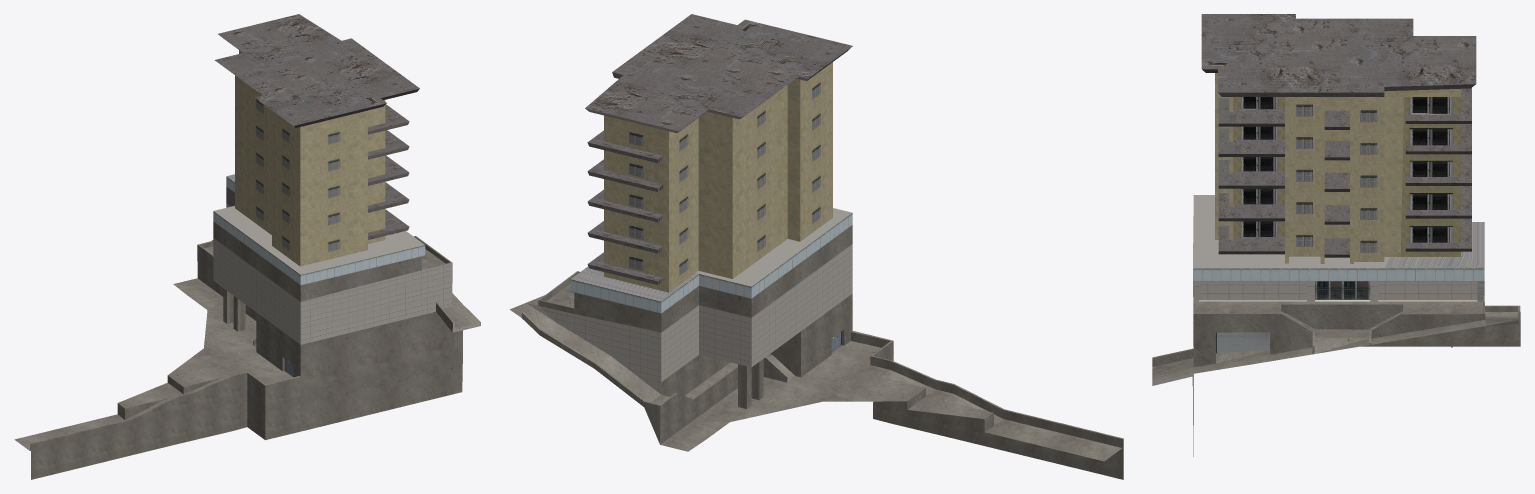
The model's file is ebeachap3_lae2.obj.
3 views of the same model, side by side, from view 1: azimuth 30°, elevation 25°; view 2: azimuth 150°, elevation 25°; view 3: azimuth 270°, elevation 25° (orthographic). The views are drawn at different scales.
Visible parts, largest first — view 1: EBeachAp3_LAe2; view 2: EBeachAp3_LAe2; view 3: EBeachAp3_LAe2.
Part boxes in pixels (x1,y1,x2,y2): EBeachAp3_LAe2: (14, 14, 480, 479); EBeachAp3_LAe2: (509, 14, 1123, 479); EBeachAp3_LAe2: (1152, 14, 1520, 456).
Bounding box in the file's own units: 78.81 × 55.24 × 50.04.
